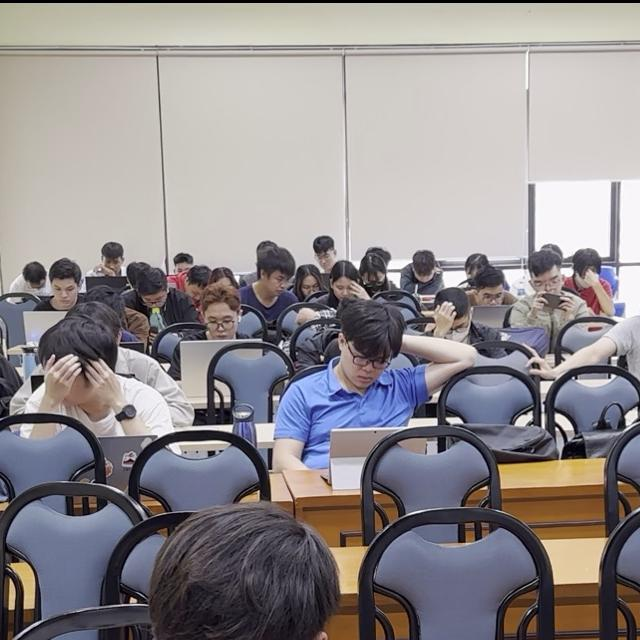Looking away: (339, 349, 391, 392), (203, 305, 238, 342), (258, 270, 291, 300)
Phone use: (510, 253, 592, 331)
